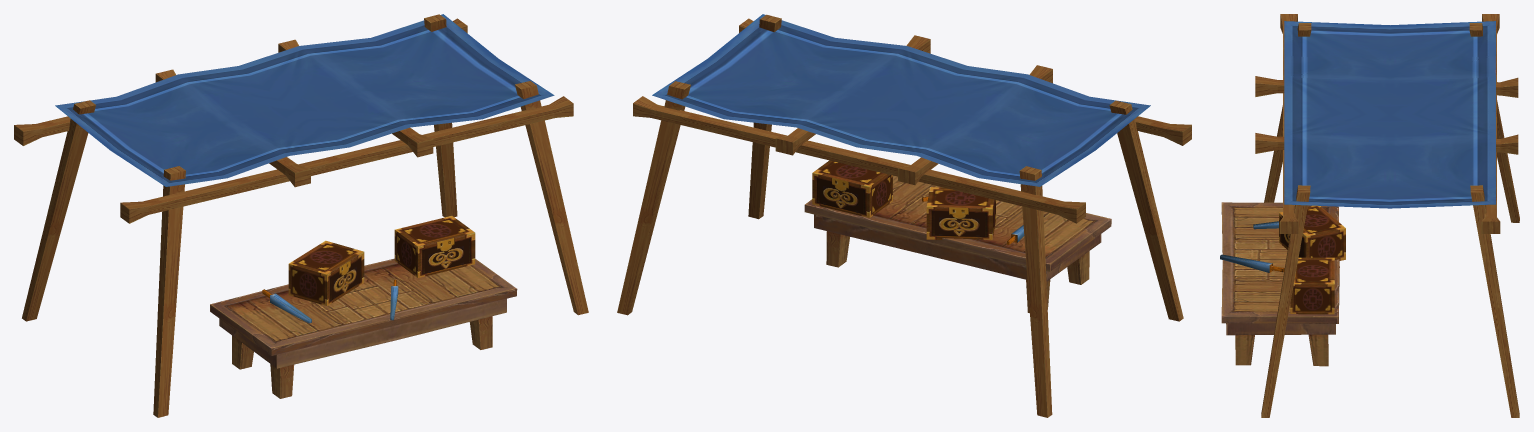
File: szc_object_tanwei02a.FBX
3 views of the same model, side by side, from view 1: azimuth 30°, elevation 25°; view 2: azimuth 150°, elevation 25°; view 3: azimuth 270°, elevation 25° (orthographic). The views are drawn at different scales.
Visible parts, largest first — view 1: szc_object_tanwei02a; view 2: szc_object_tanwei02a; view 3: szc_object_tanwei02a.
Boxes of the visible parts, x1,y1,x2,y2 form: szc_object_tanwei02a: (14, 14, 588, 417); szc_object_tanwei02a: (617, 14, 1191, 417); szc_object_tanwei02a: (1220, 14, 1519, 417).
Bounding box in the file's own units: 567 × 266 × 344.
